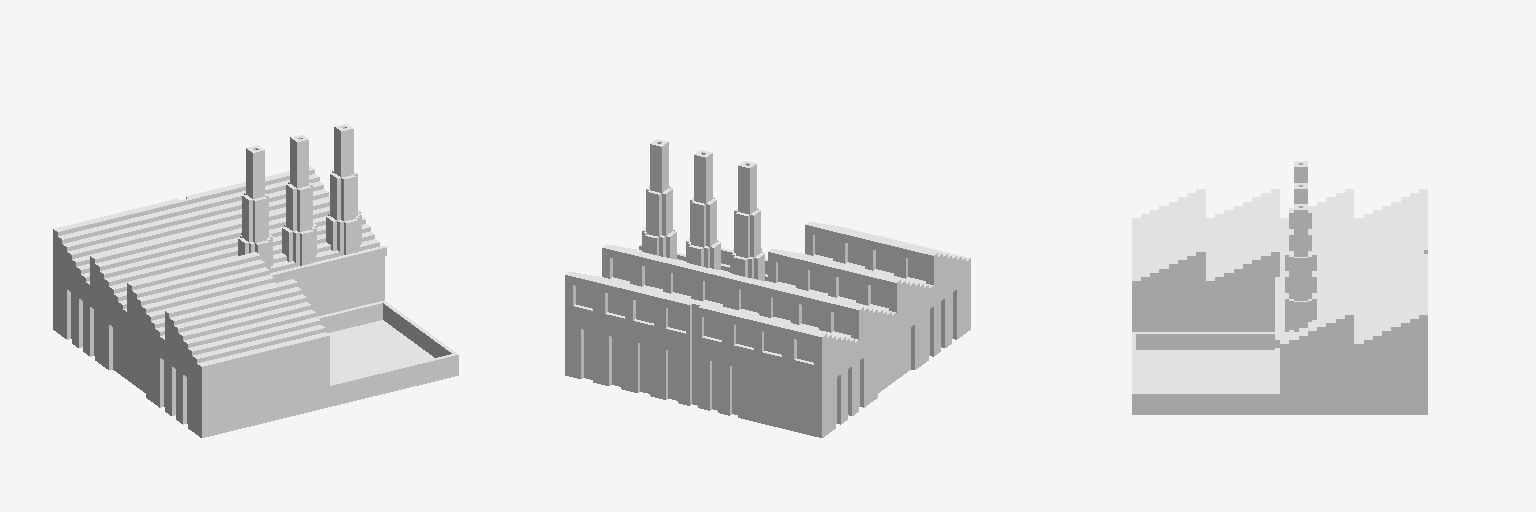
File: workshop_steel.obj
3 views of the same model, side by side, from view 1: azimuth 30°, elevation 25°; view 2: azimuth 150°, elevation 25°; view 3: azimuth 270°, elevation 25° (orthographic).
Parts seen in each view (by area): view 1: object 1; view 2: object 1; view 3: object 1.
Boxes of the visible parts, x1,y1,x2,y2 form: object 1: [53, 124, 458, 437]; object 1: [565, 139, 970, 437]; object 1: [1132, 161, 1427, 414].
Bounding box in the file's own units: 6.4 × 4.6 × 6.4.